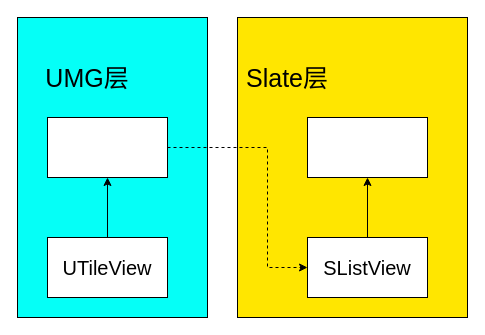
This 485x335 diagram has some shape labels left out. Here are the shapes that lost their labels. From the top down, the centre of each, then its label:
At pixel 107 147: "UListView".
At pixel 367 147: "STableViewBase".
